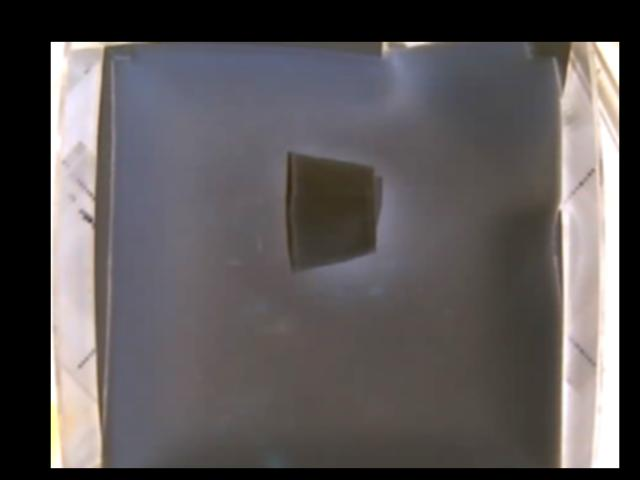Cup: (283, 148, 381, 271)
